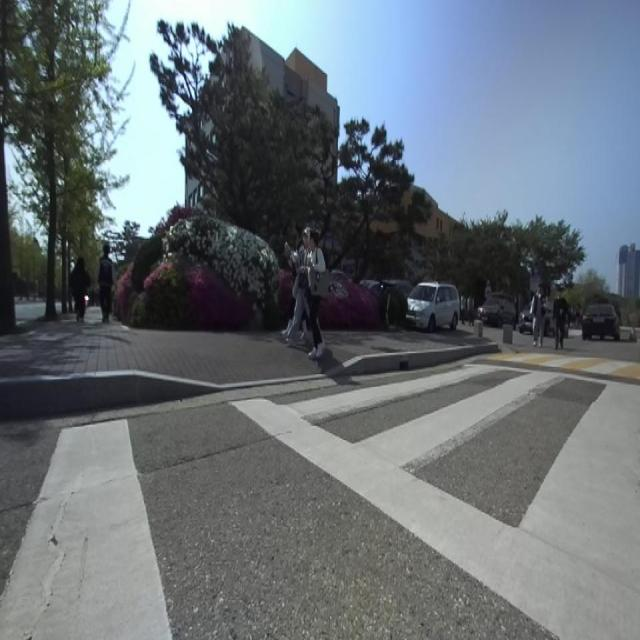sidewalk: (0, 307, 468, 384)
